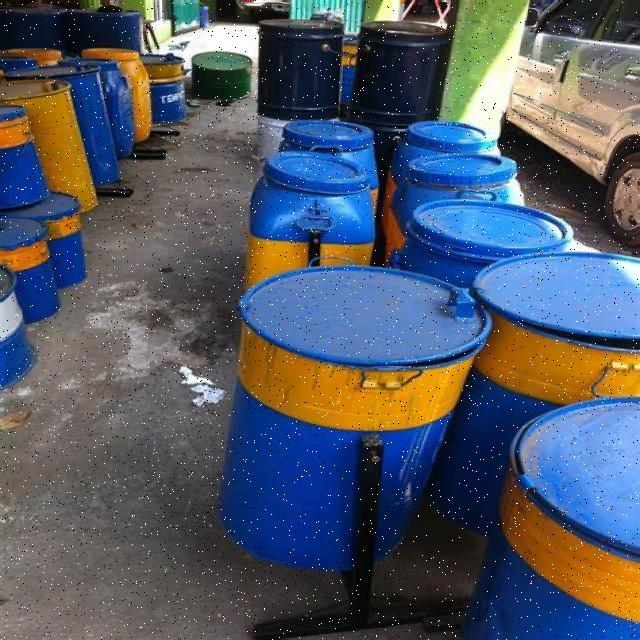garbage container: (225, 257, 480, 594), (490, 396, 640, 640), (457, 233, 640, 400), (238, 142, 388, 280), (408, 168, 554, 288), (404, 86, 526, 174), (290, 98, 375, 206)
